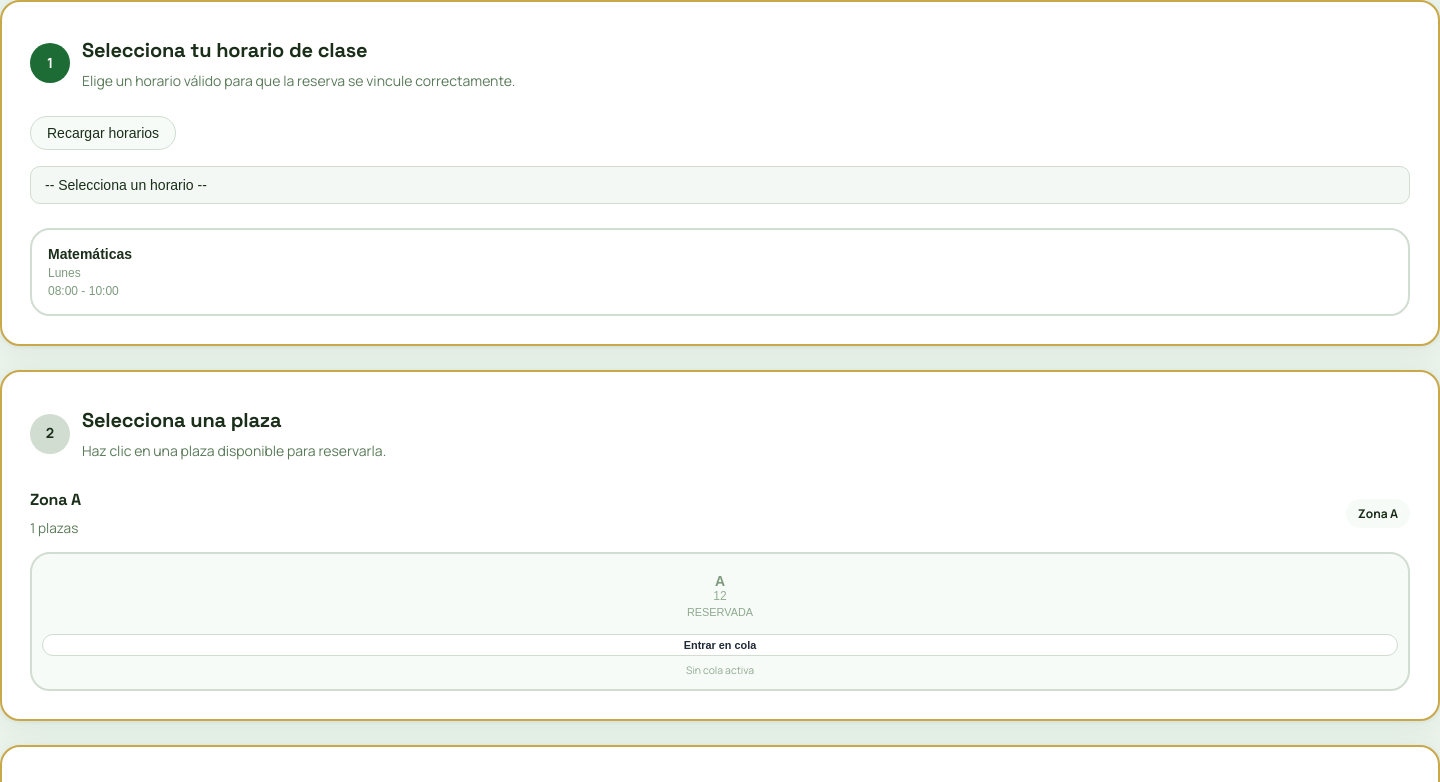
Test: ReservaForm › permite entrar a cola para una plaza no disponible
Click the button "Entrar en cola". click: (720, 645)
box: left=42, top=634, right=1398, bottom=656
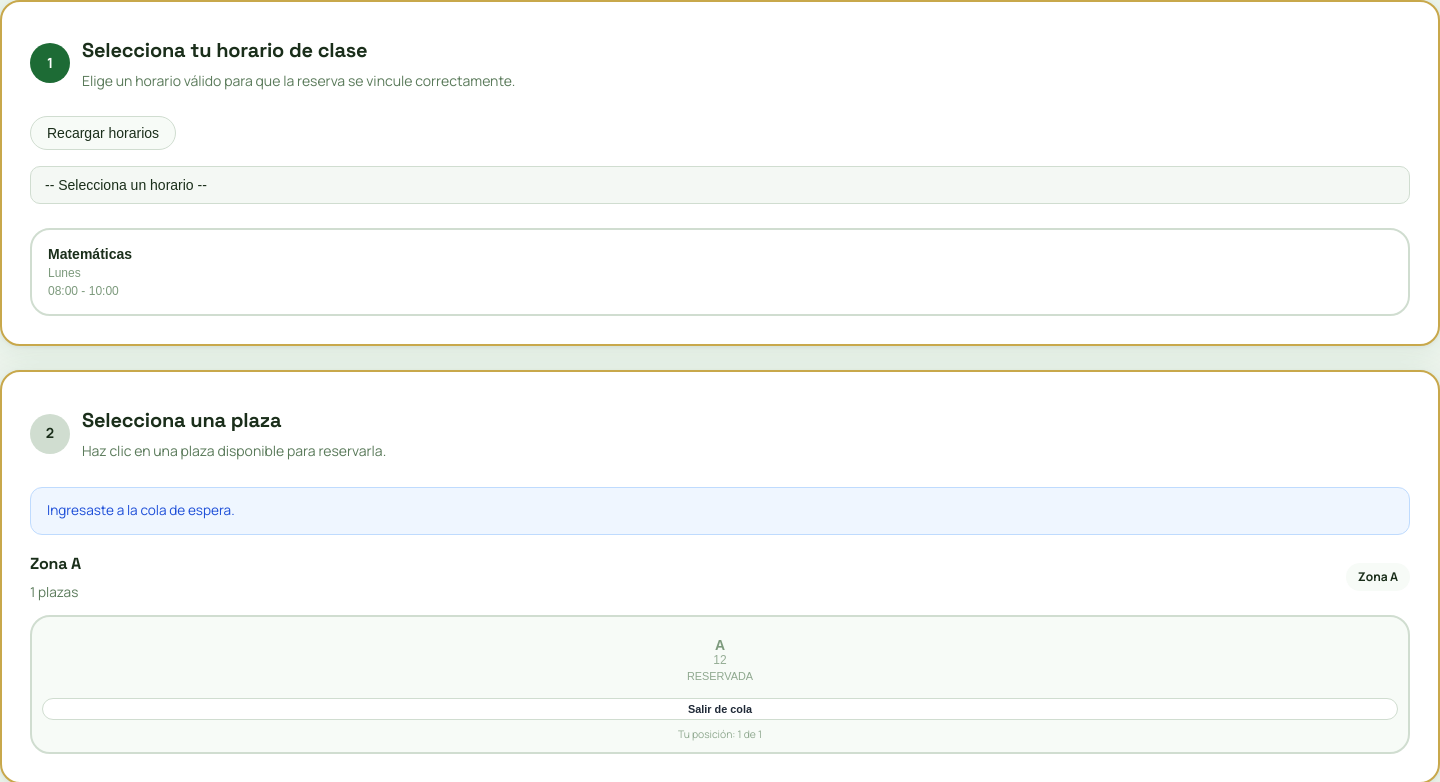
Now the button "Salir de cola" is shown, box left=42, top=698, right=1398, bottom=720
Now the text "Ingresaste a la cola de espera." is shown, box left=30, top=487, right=1410, bottom=535
